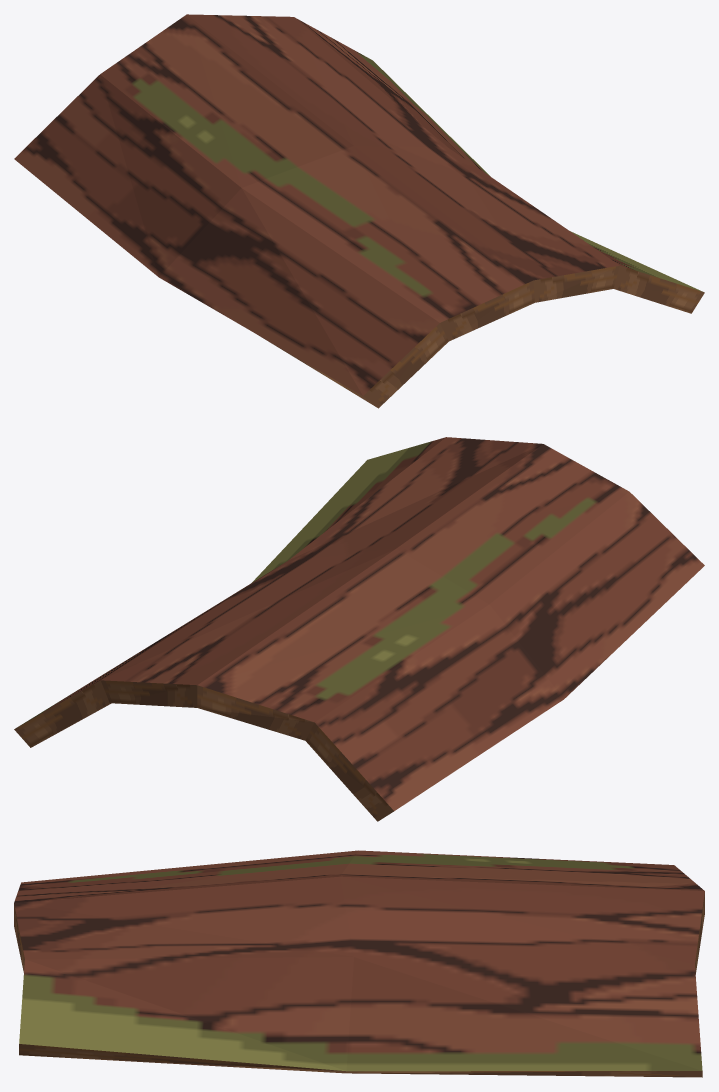
Rendered from SM_DW12_BarkSlab.fbx.
3 views of the same model, one above another, from view 1: azimuth 30°, elevation 25°; view 2: azimuth 150°, elevation 25°; view 3: azimuth 270°, elevation 25° (orthographic).
Parts seen in each view (by area): view 1: DW12_Bark, DW12_Wood; view 2: DW12_Bark, DW12_Wood; view 3: DW12_Bark, DW12_Wood.
Boxes of the visible parts, box(x1,y1,x2,y2) form: DW12_Bark: box(14, 14, 702, 395); DW12_Wood: box(261, 265, 704, 408); DW12_Bark: box(17, 437, 704, 810); DW12_Wood: box(14, 680, 393, 821); DW12_Bark: box(14, 850, 704, 1071); DW12_Wood: box(14, 892, 704, 1077).
Size of the model in its own units: 0.4913 by 0.1488 by 0.771.
